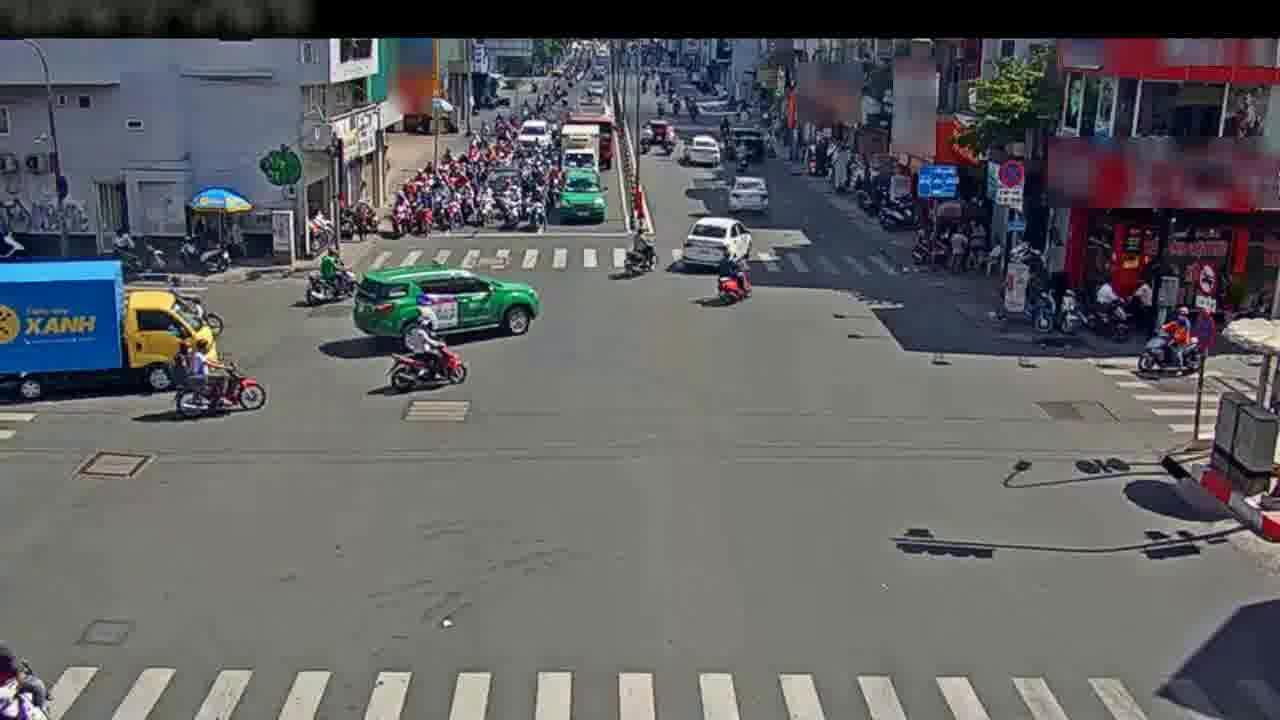8: (0, 265, 217, 394)
container: (678, 217, 749, 271), (721, 173, 771, 215), (685, 130, 721, 175)
motorbike: (352, 267, 540, 342), (178, 333, 266, 420), (386, 315, 467, 394), (0, 631, 49, 717), (1134, 312, 1203, 373), (308, 243, 355, 311), (619, 223, 662, 281), (713, 252, 751, 310)
